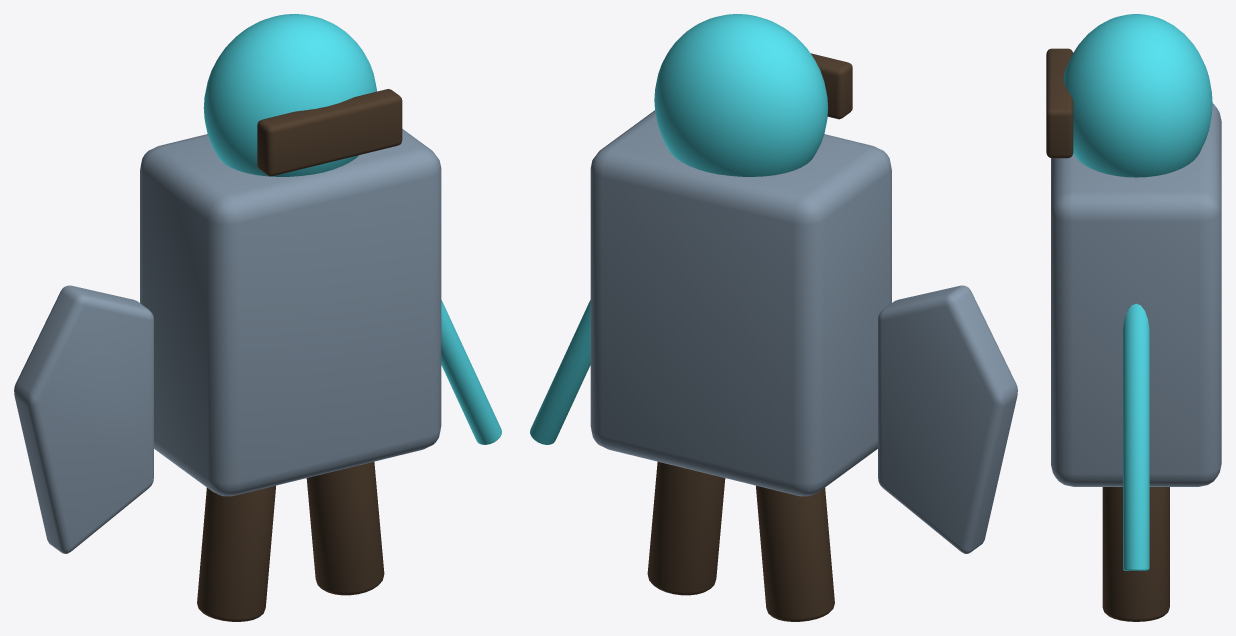
The model's file is humanoid_v2.glb.
3 renders of one model, left to right at view 1: azimuth 30°, elevation 25°; view 2: azimuth 150°, elevation 25°; view 3: azimuth 270°, elevation 25°, orthographic. The views are drawn at different scales.
Visible parts, largest first — view 1: KNIGHT_TORSO_PRIMARY, KNIGHT_SHIELD_PRIMARY, KNIGHT_HELM_ACCENT, KNIGHT_LEG_SECONDARY, KNIGHT_LEG_SECONDARY.001, KNIGHT_VISOR_SECONDARY, KNIGHT_SWORD_ACCENT; view 2: KNIGHT_TORSO_PRIMARY, KNIGHT_SHIELD_PRIMARY, KNIGHT_HELM_ACCENT, KNIGHT_LEG_SECONDARY, KNIGHT_LEG_SECONDARY.001, KNIGHT_SWORD_ACCENT, KNIGHT_VISOR_SECONDARY; view 3: KNIGHT_TORSO_PRIMARY, KNIGHT_HELM_ACCENT, KNIGHT_SWORD_ACCENT, KNIGHT_LEG_SECONDARY.001, KNIGHT_VISOR_SECONDARY.
Part boxes in pixels (x1,y1,x2,y2): KNIGHT_TORSO_PRIMARY: [140, 129, 441, 496]; KNIGHT_SHIELD_PRIMARY: [14, 285, 153, 553]; KNIGHT_HELM_ACCENT: [203, 14, 376, 176]; KNIGHT_LEG_SECONDARY: [197, 485, 275, 621]; KNIGHT_LEG_SECONDARY.001: [306, 461, 384, 595]; KNIGHT_VISOR_SECONDARY: [257, 89, 402, 176]; KNIGHT_SWORD_ACCENT: [441, 300, 501, 444]; KNIGHT_TORSO_PRIMARY: [590, 110, 891, 496]; KNIGHT_SHIELD_PRIMARY: [878, 285, 1017, 553]; KNIGHT_HELM_ACCENT: [654, 14, 828, 176]; KNIGHT_LEG_SECONDARY: [756, 485, 834, 621]; KNIGHT_LEG_SECONDARY.001: [647, 461, 725, 595]; KNIGHT_SWORD_ACCENT: [530, 300, 590, 444]; KNIGHT_VISOR_SECONDARY: [811, 53, 852, 119]; KNIGHT_TORSO_PRIMARY: [1051, 103, 1221, 486]; KNIGHT_HELM_ACCENT: [1063, 14, 1212, 177]; KNIGHT_SWORD_ACCENT: [1123, 303, 1149, 570]; KNIGHT_LEG_SECONDARY.001: [1102, 487, 1169, 621]; KNIGHT_VISOR_SECONDARY: [1046, 48, 1073, 158].
Bounding box in the file's own units: 2.4 × 2.77 × 0.78.
